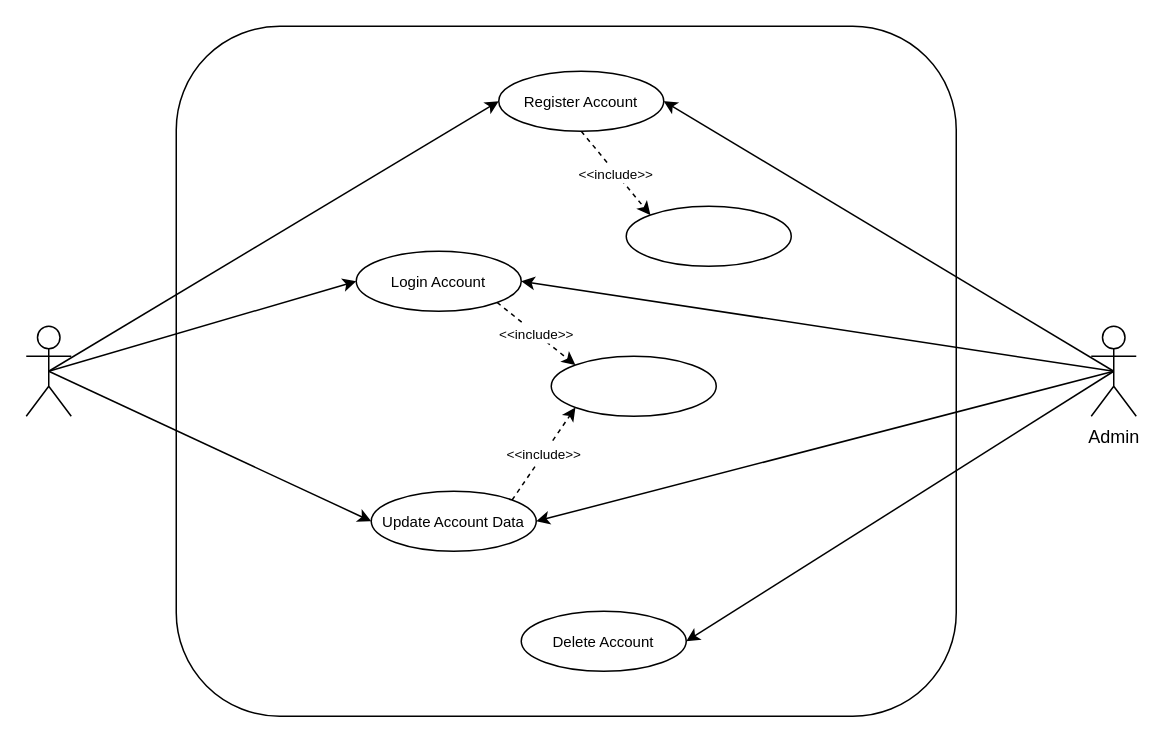
Some shapes in this 1166 by 743 pixel diagram are drawn without their labels. Here are the shapes that lost their labels. From the top down, the centre of each, then its label:
At [708,235]: "Check Data".
At [48,370]: "Client".
At [633,385]: "Check Account Exists".
